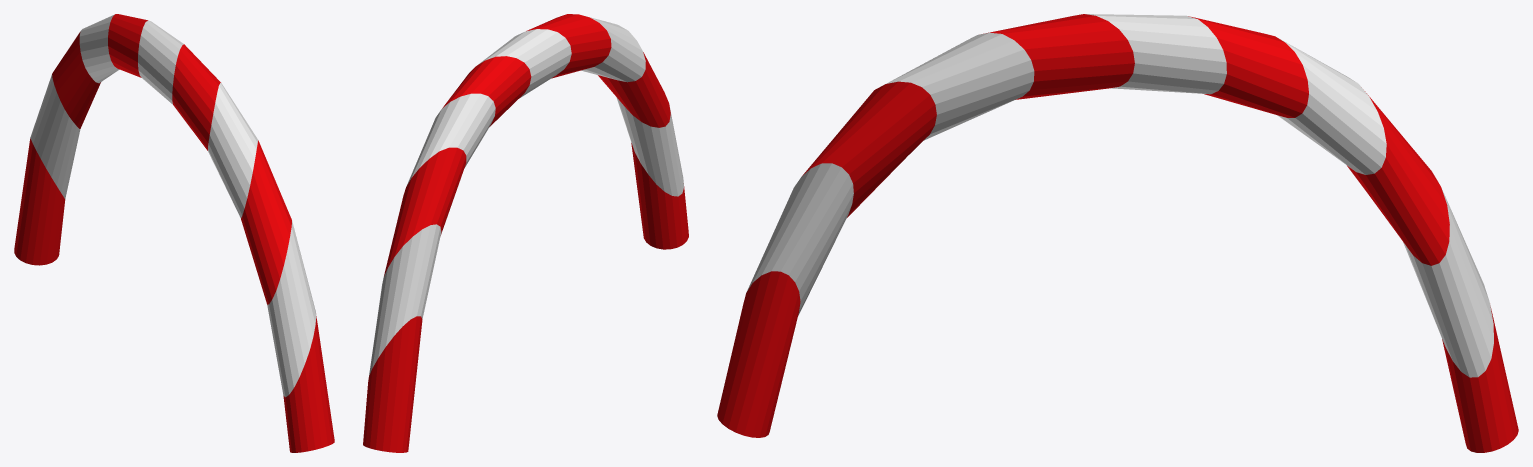
File: Work_Shop_Candy Portal.fbx
3 renders of one model, left to right at view 1: azimuth 30°, elevation 25°; view 2: azimuth 150°, elevation 25°; view 3: azimuth 270°, elevation 25°, orthographic. The views are drawn at different scales.
Parts seen in each view (by area): view 1: Candy Portal; view 2: Candy Portal; view 3: Candy Portal.
Part boxes in pixels (x1,y1,x2,y2): Candy Portal: (14, 14, 334, 452); Candy Portal: (363, 14, 688, 452); Candy Portal: (717, 14, 1518, 452).
Bounding box in the file's own units: 1.02 × 6.23 × 10.62.
